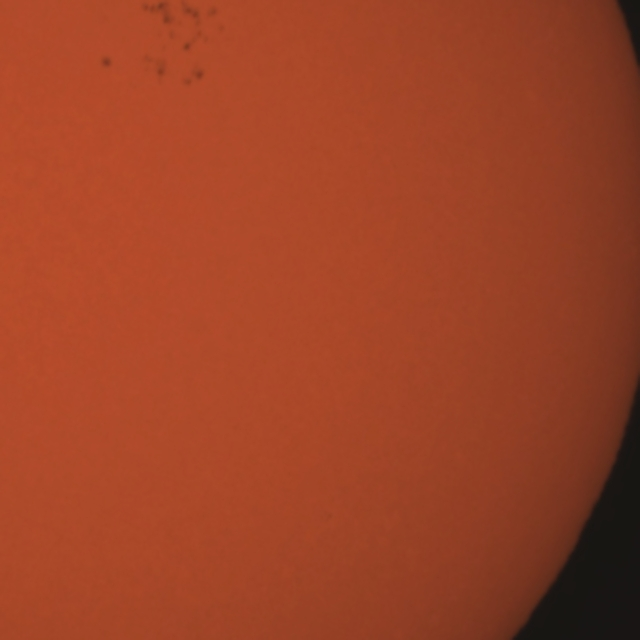sunspot: (148, 0, 218, 59), (138, 51, 167, 80), (179, 66, 206, 89), (98, 54, 114, 71)
